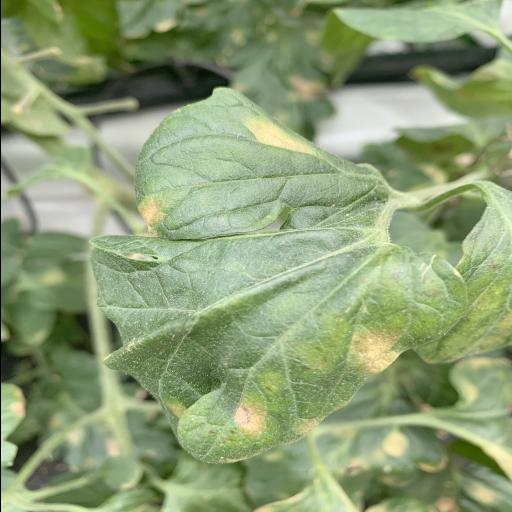disease_tomato: (87, 87, 466, 465)
